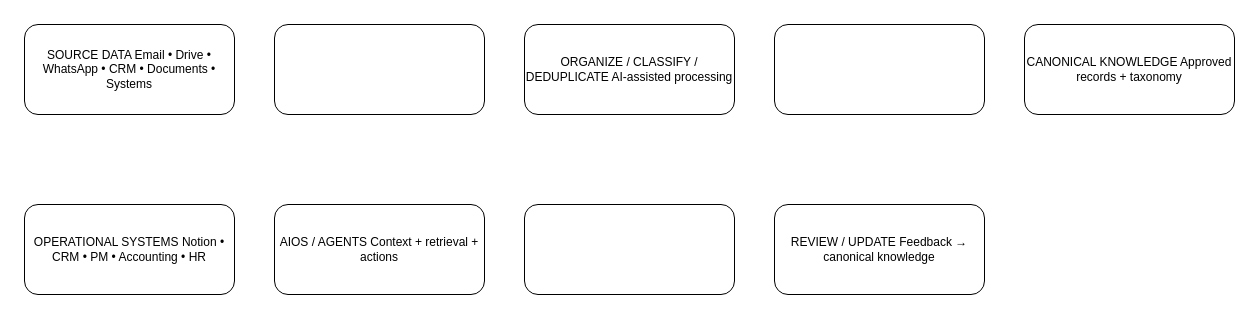
The diagram is 1252 pixels wide and 312 high, and some of its shapes have lost their labels. The shapes that lost their labels are listed below. From the top down, each one's centre as x and y in pixels, then its label:
At point (379, 69): "RAW / RESEARCH REPOSITORY Immutable intake + provenance".
At point (879, 69): "VALIDATE / EVALUATE Source + confidence + relevance".
At point (629, 249): "EXECUTION / RESULT / EVIDENCE Human + AI work outputs".
